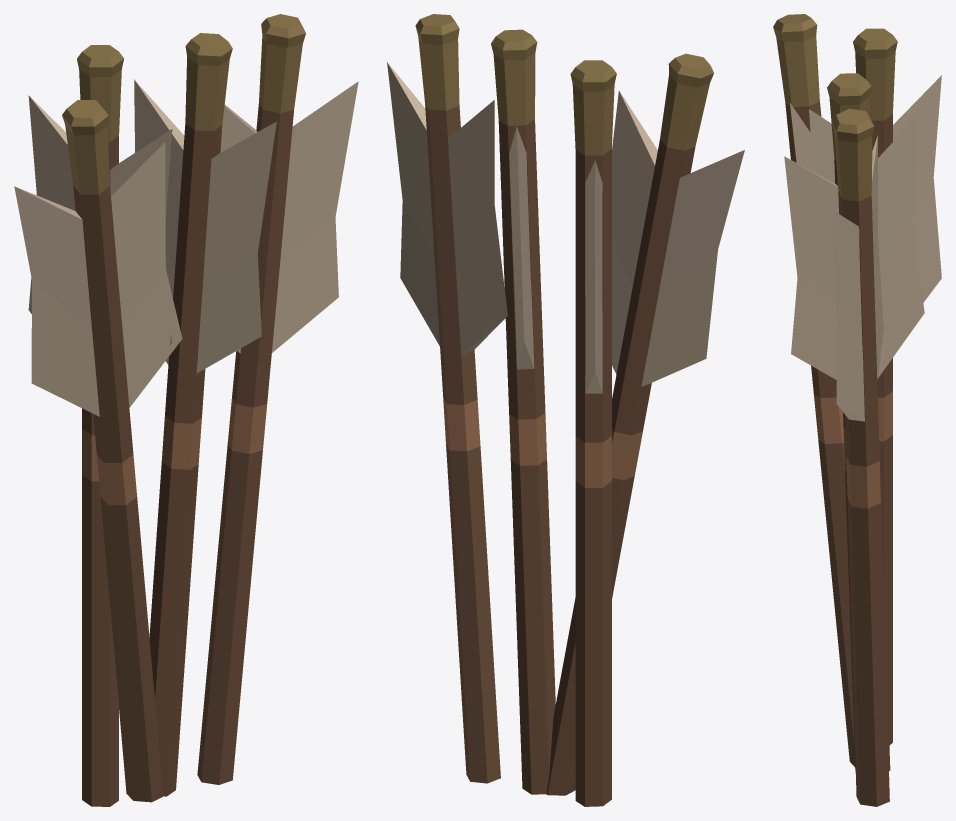
The model's file is elven_SM_Prop_Quiver_03_Arrows_01.gltf.
3 renders of one model, left to right at view 1: azimuth 30°, elevation 25°; view 2: azimuth 150°, elevation 25°; view 3: azimuth 270°, elevation 25°, orthographic. The views are drawn at different scales.
Visible parts, largest first — view 1: SM_Prop_Quiver_03_Arrows_01; view 2: SM_Prop_Quiver_03_Arrows_01; view 3: SM_Prop_Quiver_03_Arrows_01.
Part boxes in pixels (x1,y1,x2,y2): SM_Prop_Quiver_03_Arrows_01: [14, 14, 358, 806]; SM_Prop_Quiver_03_Arrows_01: [387, 14, 744, 806]; SM_Prop_Quiver_03_Arrows_01: [773, 14, 941, 806].
Bounding box in the file's own units: 0.2308 × 0.4681 × 0.1005.
1 material, 1 textured.
